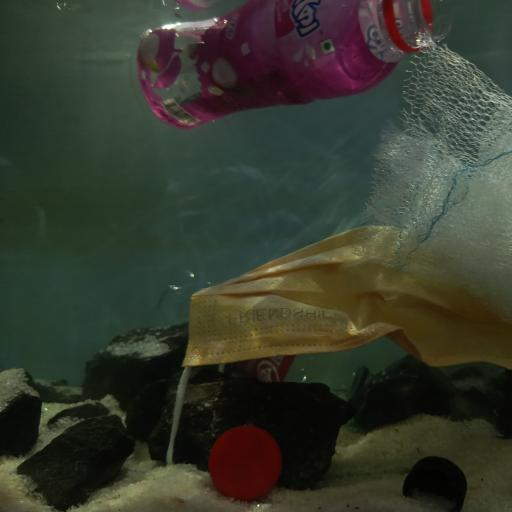bottle_cap: (206, 422, 283, 499), (404, 454, 469, 512)
mask: (172, 223, 512, 396)
net: (348, 20, 512, 318)
plastic_bottle: (128, 0, 451, 132), (150, 267, 372, 393)
